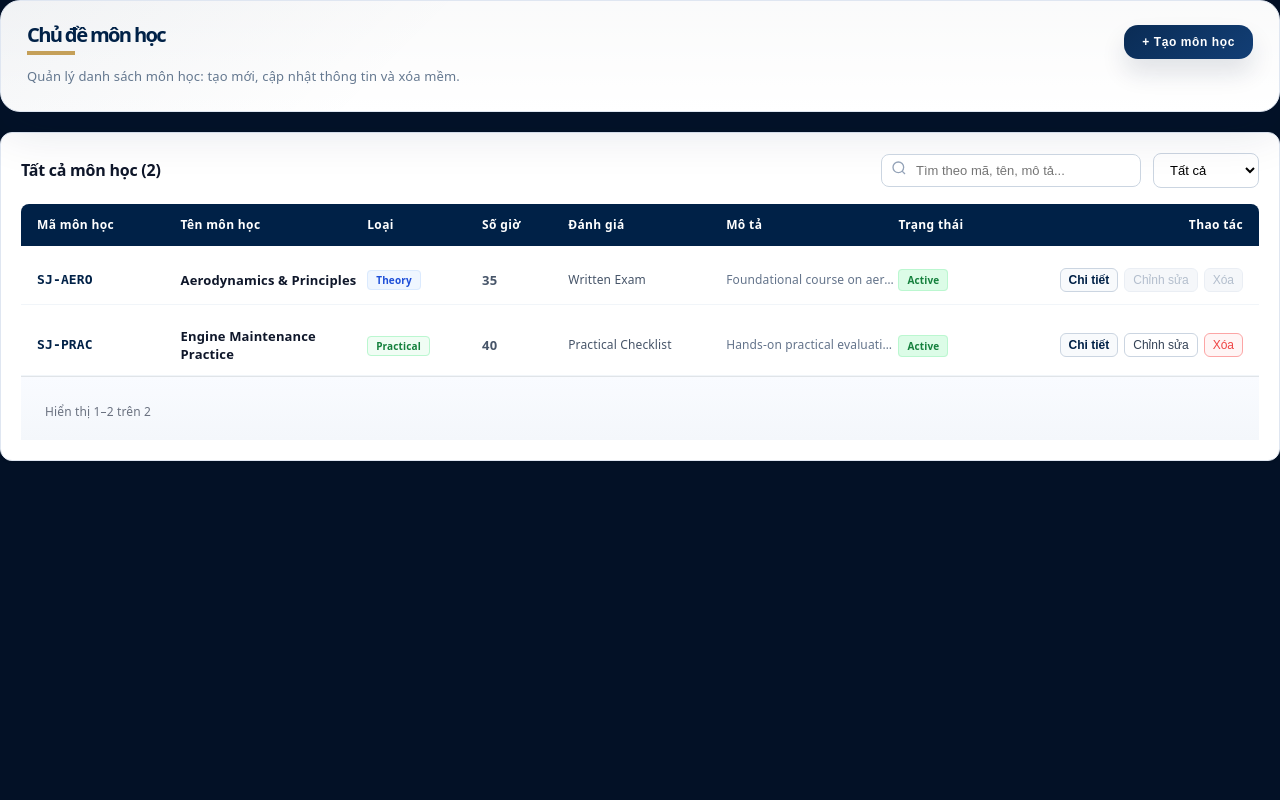
Test: SubjectManagement - Detail Button and Modal › renders "Chi tiết" button in each subject row and opens the Subject Detail Modal on click
This screenshot has width=1280, height=800.
Expected: the text "SJ-AERO" is shown, left=37, top=272, right=93, bottom=287
Expected: the text "SJ-PRAC" is shown, left=37, top=337, right=93, bottom=352
// Click "Chi tiết" for the first subject (SJ-AERO)
Click the button "Chi tiết" in the row of "Written Exam" at (1089, 280), box left=1060, top=268, right=1118, bottom=292
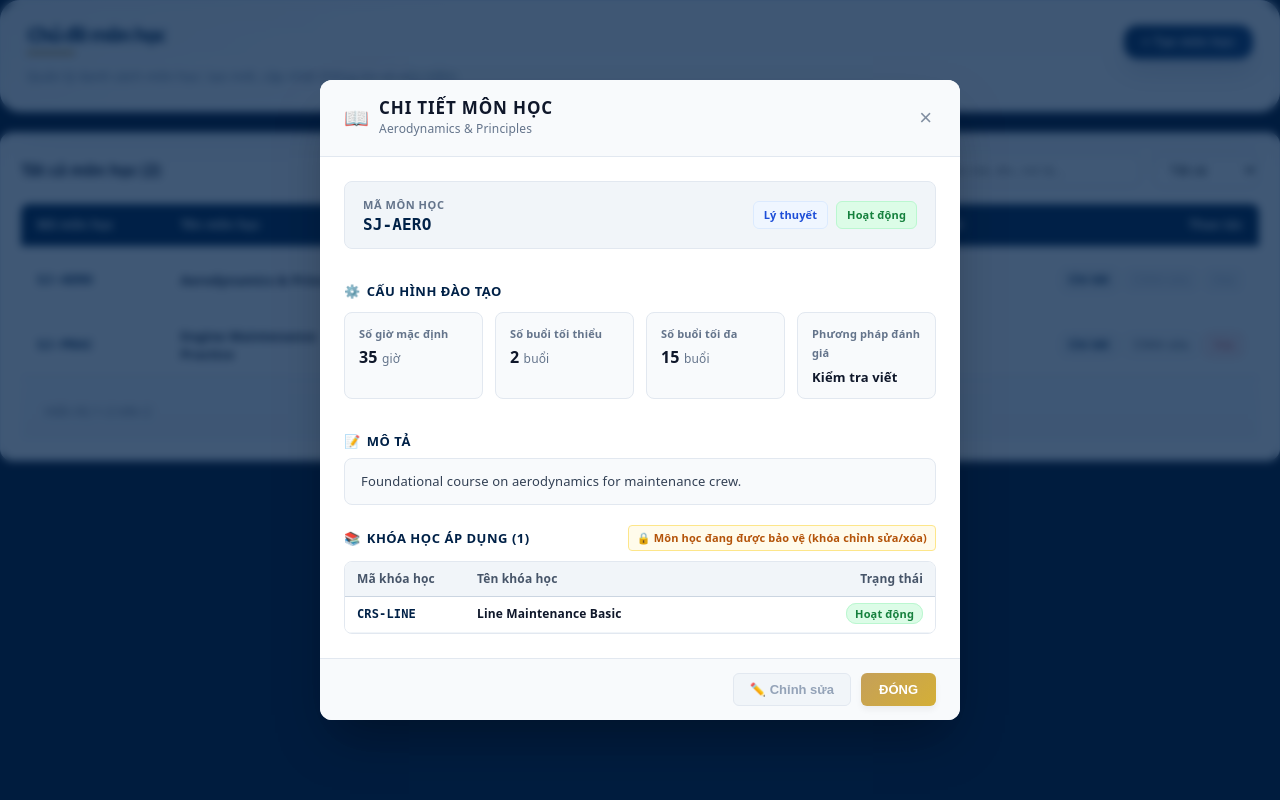
Expected: the heading "Chi tiết môn học" is shown, left=379, top=98, right=553, bottom=119
Expected: the heading "⚙️ Cấu hình đào tạo" is shown, left=344, top=282, right=502, bottom=300
Expected: the text "CRS-LINE" is shown, left=345, top=597, right=465, bottom=632
// Close the modal
Click the button "Đóng" at (898, 689), box left=861, top=672, right=936, bottom=706
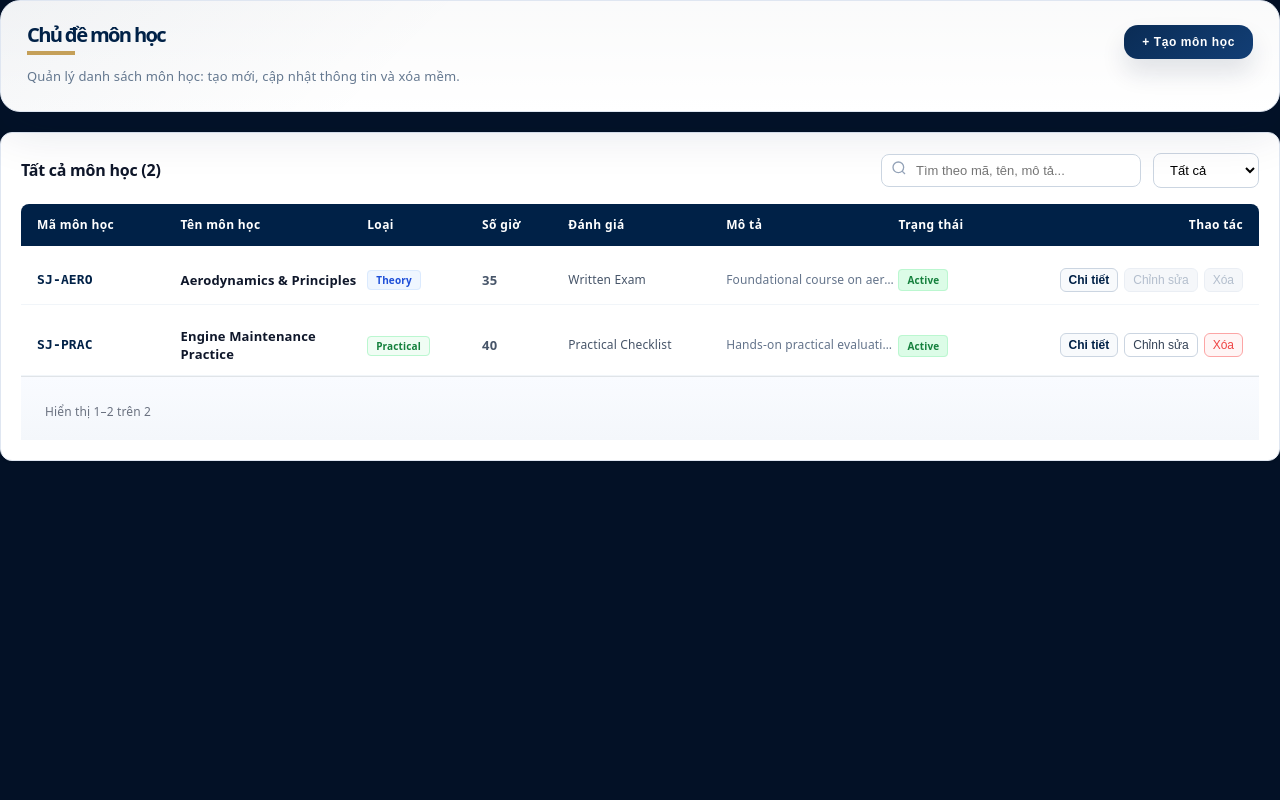
Expected: the heading "Chi tiết môn học" is gone
Expected: the text "Foundational course on aerodynamics for maintenance crew." is shown once, left=726, top=271, right=898, bottom=289
